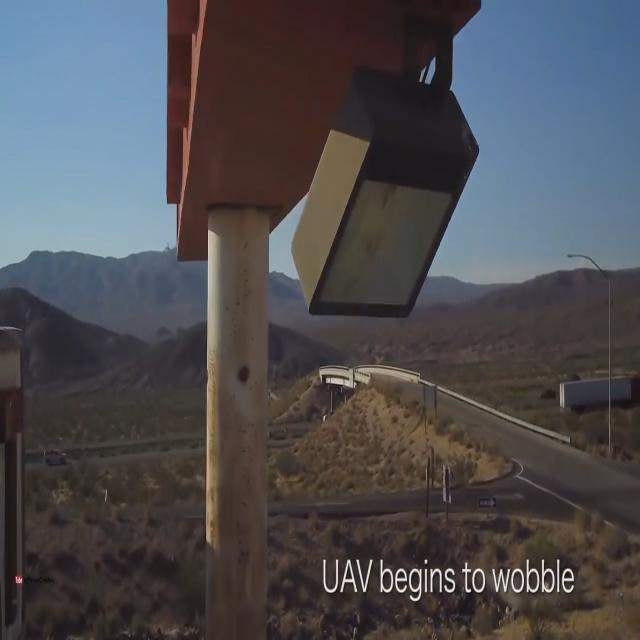Building: (164, 0, 481, 640), (0, 318, 28, 640)
Pole: (564, 247, 614, 457)
